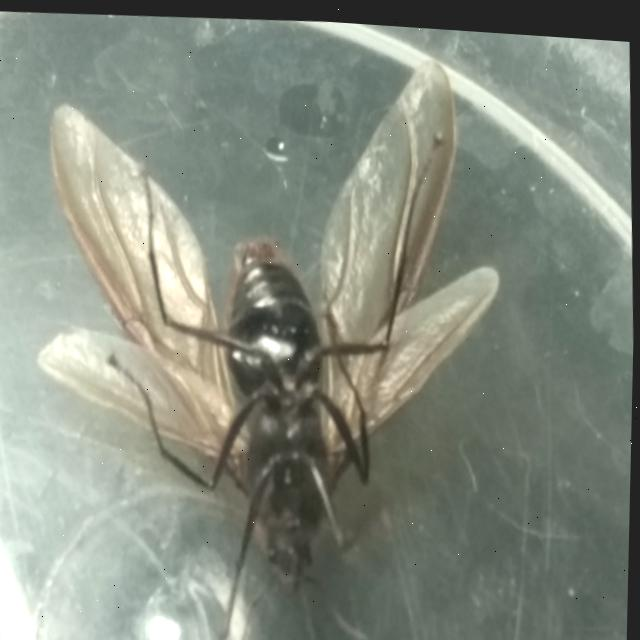Alive-Male-Alate: (21, 28, 519, 640)
